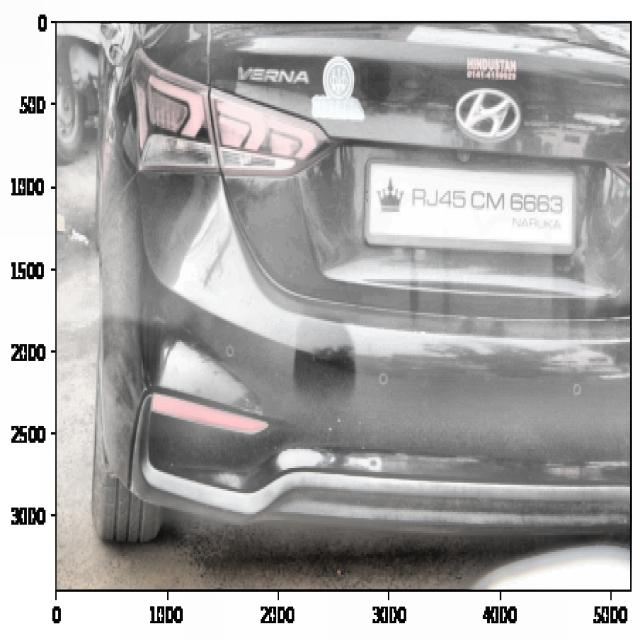license_plate: (407, 175, 572, 240)
